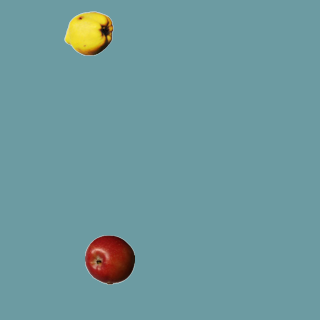Apple Braeburn: (84, 234, 134, 284)
Quince: (63, 8, 113, 58)
